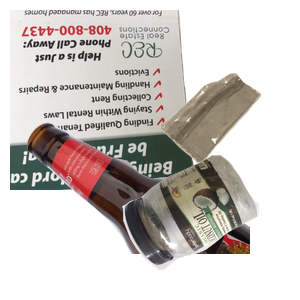glass: (25, 120, 265, 300)
paper: (10, 10, 201, 190)
plastic: (120, 152, 300, 300)
trash: (158, 71, 300, 227)
